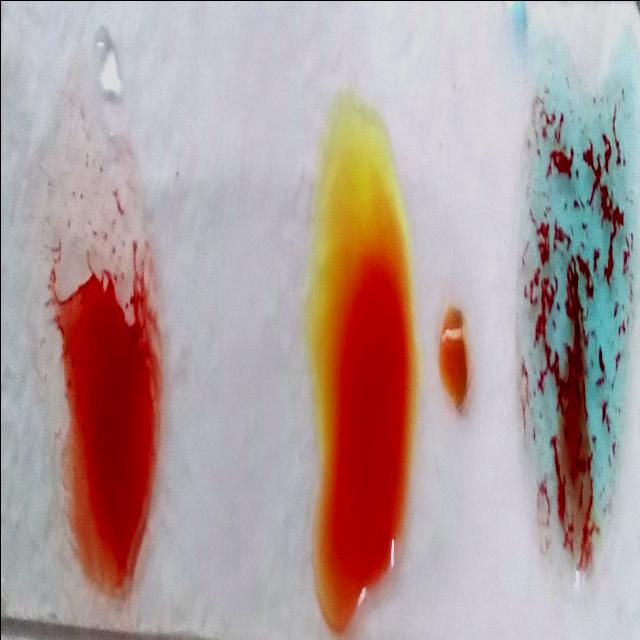A: (516, 71, 638, 582)
D: (30, 66, 162, 604)
